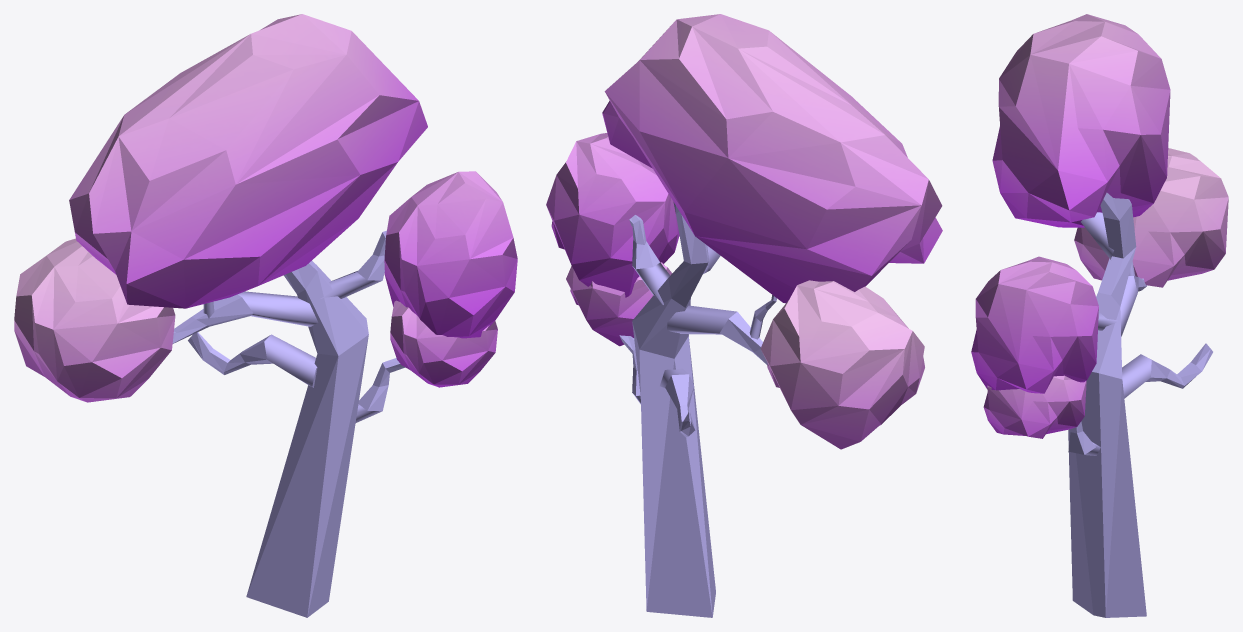
Rendered from Tree_6.FBX.
3 views of the same model, side by side, from view 1: azimuth 30°, elevation 25°; view 2: azimuth 150°, elevation 25°; view 3: azimuth 270°, elevation 25° (orthographic). The views are drawn at different scales.
Visible parts, largest first — view 1: Cylinder026; view 2: Cylinder026; view 3: Cylinder026.
Part boxes in pixels (box(x1,y1,x2,y2)): Cylinder026: box(14, 14, 517, 617); Cylinder026: box(546, 14, 942, 617); Cylinder026: box(971, 14, 1228, 617).
Size of the model in its own units: 2043 by 2695 by 1105.
Materials: 1 (1 with a texture image).
